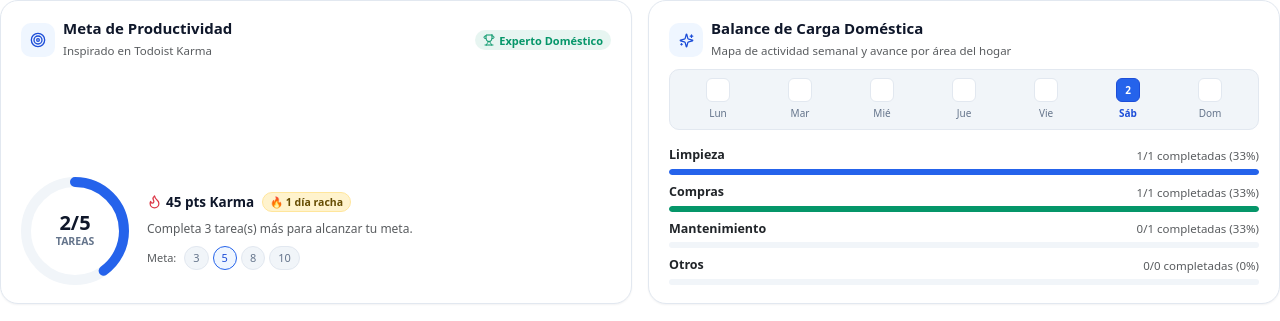
Test: DailyGoalRing Component (Todoist Karma & Bento Activity) › permite cambiar la meta diaria (3, 5, 8, 10) y persiste la selección en localStorage
Click the button with test id "goal-preset-3" at (196, 258), box [184,246,209,270]
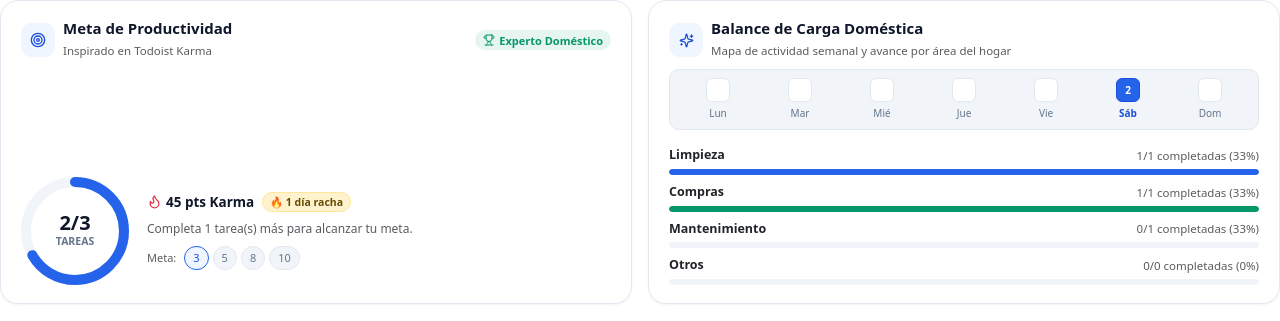
Expected: the text with test id "daily-goal-fraction" reads "2/3", [59,212,91,234]
